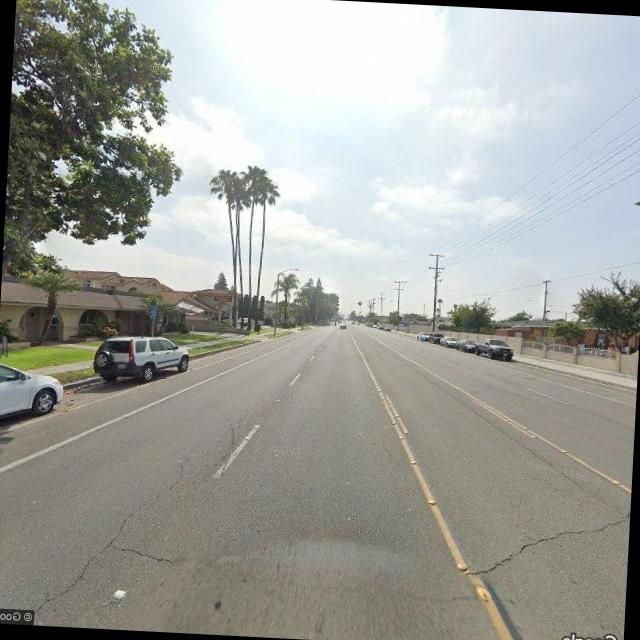crack: (34, 452, 190, 620), (469, 490, 631, 586), (111, 540, 182, 564)
